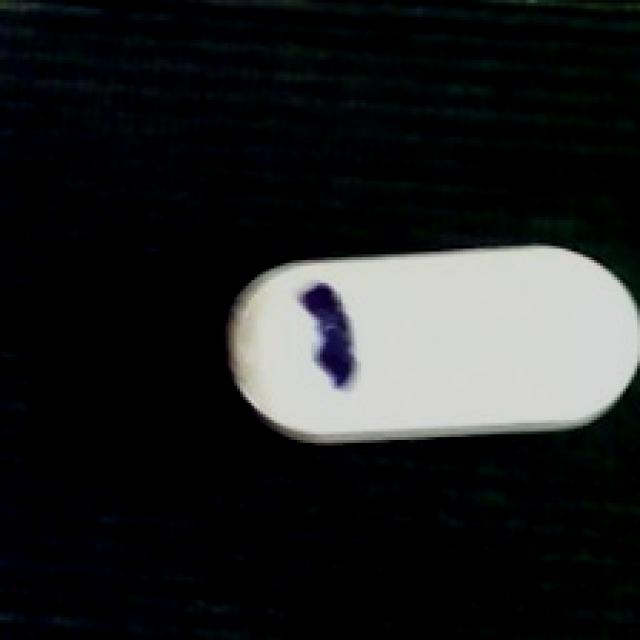defected: (212, 237, 637, 443)
